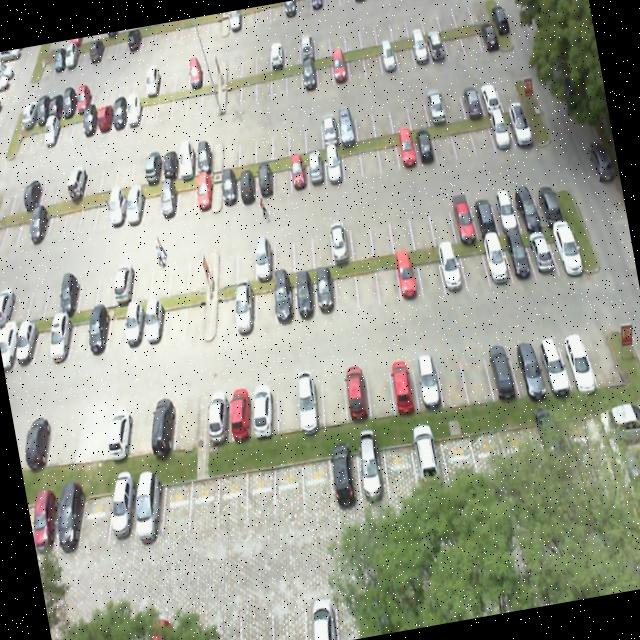empty: (154, 468, 200, 536), (71, 485, 118, 548), (179, 466, 225, 530), (578, 316, 620, 381), (267, 458, 311, 520), (530, 328, 570, 394), (244, 376, 286, 438), (208, 462, 252, 521), (238, 459, 282, 518), (296, 450, 338, 510), (352, 444, 392, 507), (556, 322, 594, 387), (78, 402, 118, 463), (507, 332, 545, 396), (48, 491, 92, 546), (224, 274, 262, 336), (326, 446, 364, 508), (116, 293, 155, 352), (482, 339, 520, 399), (98, 402, 137, 460), (122, 398, 161, 456), (458, 344, 495, 404), (268, 374, 306, 432), (291, 372, 328, 431), (144, 394, 182, 451), (136, 286, 172, 346), (338, 362, 372, 424), (266, 266, 301, 326), (386, 353, 420, 414), (166, 394, 203, 450), (408, 348, 442, 408), (544, 216, 581, 271), (154, 290, 190, 346), (222, 380, 258, 436), (434, 348, 468, 407), (176, 284, 210, 342), (314, 368, 348, 426), (99, 296, 133, 352), (244, 275, 278, 331), (360, 359, 394, 415), (499, 228, 534, 281), (488, 180, 522, 234), (208, 280, 238, 340), (201, 388, 235, 440), (445, 188, 478, 240), (122, 254, 158, 300), (310, 264, 340, 318), (106, 258, 141, 304), (170, 168, 202, 218), (288, 269, 318, 322), (532, 175, 564, 224), (456, 239, 488, 288), (414, 244, 444, 296), (480, 234, 510, 286), (406, 194, 435, 247), (372, 255, 402, 306), (141, 252, 174, 298), (428, 194, 457, 246), (468, 186, 498, 236), (512, 178, 542, 228), (330, 264, 360, 314), (136, 176, 167, 224), (183, 246, 216, 291), (437, 243, 466, 294), (524, 228, 554, 277), (504, 101, 535, 148), (393, 250, 421, 302), (162, 250, 195, 294), (154, 173, 184, 221), (119, 179, 150, 225), (286, 224, 316, 270), (384, 204, 414, 250), (344, 211, 372, 260), (214, 162, 243, 208), (226, 238, 256, 282), (188, 169, 217, 214), (210, 242, 240, 284), (306, 220, 334, 265), (354, 258, 379, 308), (324, 218, 352, 262), (249, 232, 278, 274), (267, 230, 296, 272), (470, 110, 496, 156), (268, 153, 294, 198), (285, 151, 311, 195), (366, 212, 393, 254), (486, 110, 514, 150), (356, 135, 382, 178), (252, 158, 277, 202), (450, 118, 477, 158), (235, 160, 260, 203), (376, 132, 401, 174), (412, 126, 438, 165), (320, 146, 344, 187), (393, 130, 418, 168), (431, 122, 455, 159), (303, 150, 326, 188), (339, 140, 362, 178)
occupied: (124, 476, 174, 542), (100, 481, 146, 545)
